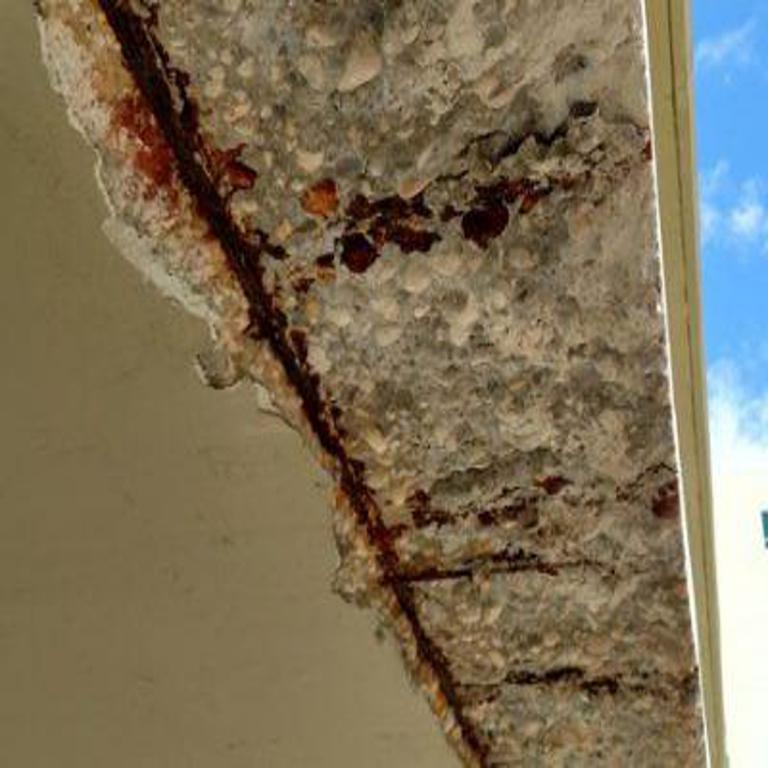damage: (24, 2, 708, 766)
